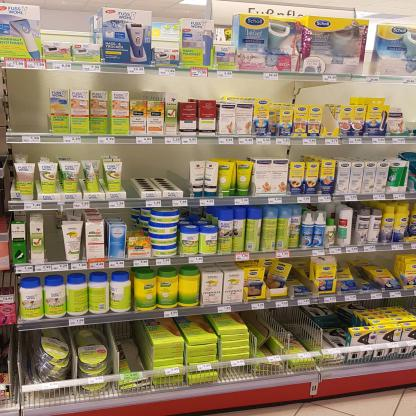Void: (128, 146, 179, 185), (10, 77, 44, 132), (113, 325, 142, 367), (46, 218, 58, 261), (127, 216, 147, 237), (321, 102, 334, 134)
